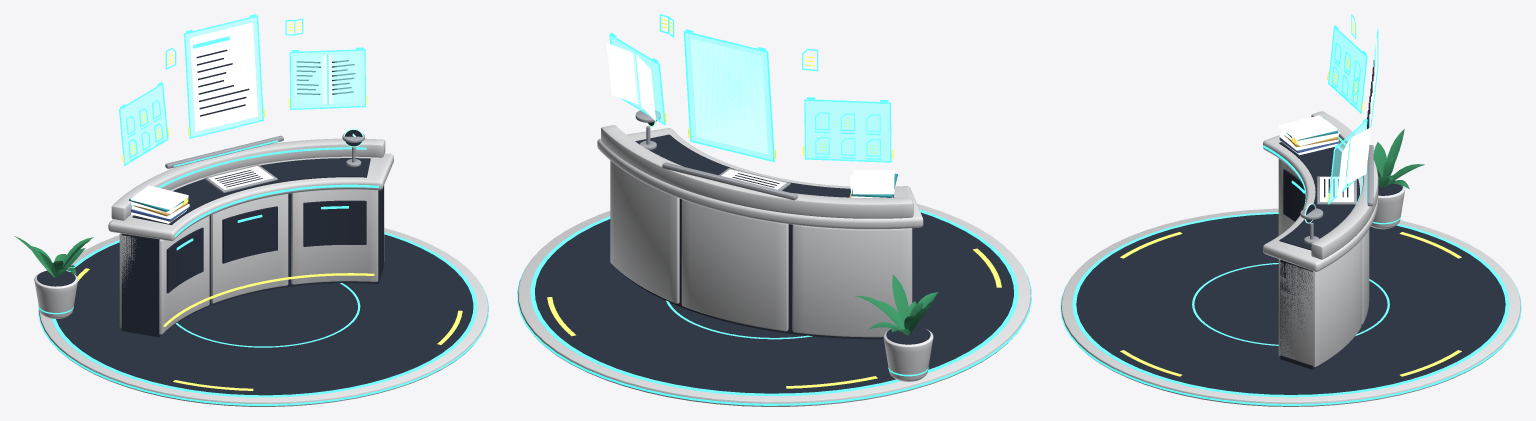
Rendered from file_reading.glb.
3 views of the same model, side by side, from view 1: azimuth 30°, elevation 25°; view 2: azimuth 150°, elevation 25°; view 3: azimuth 270°, elevation 25° (orthographic). The views are drawn at different scales.
Parts seen in each view (by area): view 1: file_reading; view 2: file_reading; view 3: file_reading.
Boxes of the visible parts, bbox=[...] form: file_reading: bbox=[14, 14, 488, 406]; file_reading: bbox=[517, 14, 1031, 406]; file_reading: bbox=[1060, 14, 1521, 406].
Bounding box in the file's own units: 3.01 × 1.91 × 3.01.
